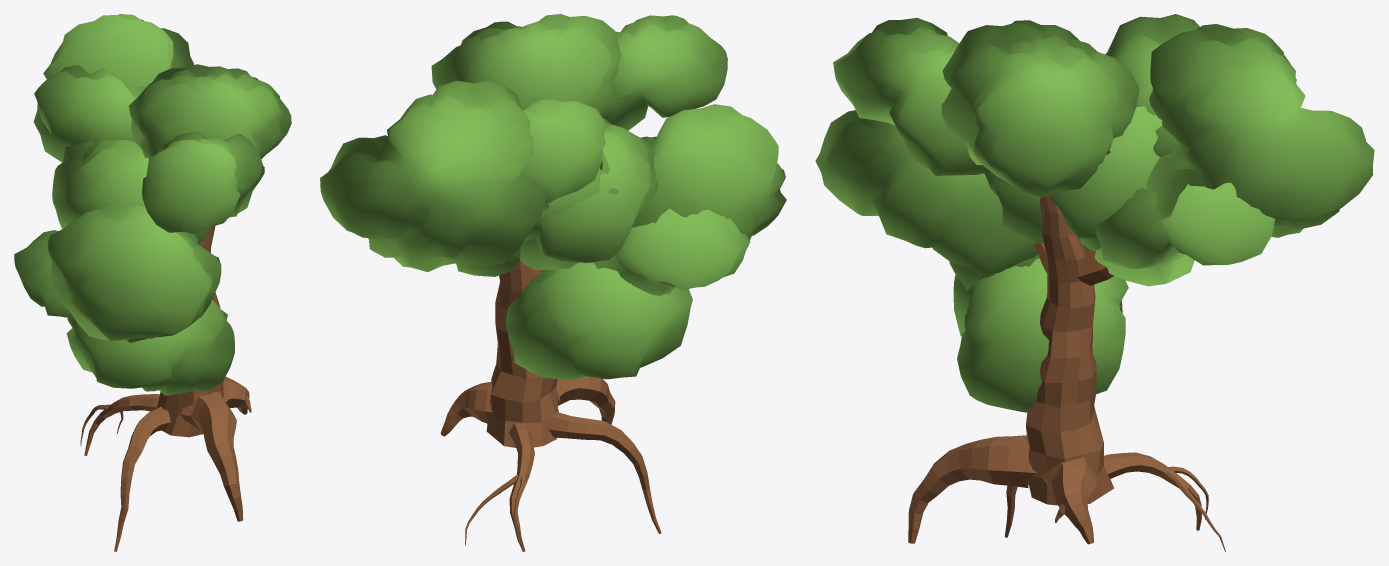
File: tree_a.glb
3 renders of one model, left to right at view 1: azimuth 30°, elevation 25°; view 2: azimuth 150°, elevation 25°; view 3: azimuth 270°, elevation 25°, orthographic. The views are drawn at different scales.
Visible parts, largest first — view 1: BranchLeaves_2, CanopyLeaves, BranchLeaves_7, BranchLeaves_0, TreeWood, BranchLeaves_6, BranchLeaves_8, BranchLeaves_3, BranchLeaves_1, BranchLeaves_5; view 2: BranchLeaves_6, BranchLeaves_0, TreeWood, BranchLeaves_2, CanopyLeaves, BranchLeaves_7, BranchLeaves_3, BranchLeaves_1, BranchLeaves_8, BranchLeaves_5, BranchLeaves_4; view 3: BranchLeaves_6, CanopyLeaves, TreeWood, BranchLeaves_2, BranchLeaves_0, BranchLeaves_7, BranchLeaves_4, BranchLeaves_5, BranchLeaves_8, BranchLeaves_3, Branch.004.
Boxes of the visible parts, <box> form: BranchLeaves_2: <box>47,203,221,340</box>; CanopyLeaves: <box>128,64,291,159</box>; BranchLeaves_7: <box>142,131,264,233</box>; BranchLeaves_0: <box>66,298,234,395</box>; TreeWood: <box>80,226,251,551</box>; BranchLeaves_6: <box>33,14,193,162</box>; BranchLeaves_8: <box>34,65,145,159</box>; BranchLeaves_3: <box>52,139,209,242</box>; BranchLeaves_1: <box>14,230,173,342</box>; BranchLeaves_5: <box>63,140,139,178</box>; BranchLeaves_6: <box>320,80,545,271</box>; BranchLeaves_0: <box>505,262,692,380</box>; TreeWood: <box>440,260,661,551</box>; BranchLeaves_2: <box>628,104,786,239</box>; CanopyLeaves: <box>431,14,631,117</box>; BranchLeaves_7: <box>603,15,727,130</box>; BranchLeaves_3: <box>519,118,657,270</box>; BranchLeaves_1: <box>587,208,750,295</box>; BranchLeaves_8: <box>520,98,605,210</box>; BranchLeaves_5: <box>524,152,618,252</box>; BranchLeaves_4: <box>455,248,520,276</box>; BranchLeaves_6: <box>1146,24,1374,237</box>; CanopyLeaves: <box>941,20,1139,197</box>; TreeWood: <box>908,195,1225,551</box>; BranchLeaves_2: <box>815,110,1037,276</box>; BranchLeaves_0: <box>953,258,1128,412</box>; BranchLeaves_7: <box>833,18,990,175</box>; BranchLeaves_4: <box>1094,182,1274,286</box>; BranchLeaves_5: <box>1049,106,1162,251</box>; BranchLeaves_8: <box>1105,14,1199,157</box>; BranchLeaves_3: <box>984,172,1091,250</box>; Branch.004: <box>1078,250,1113,285</box>.
Size of the model in its own units: 7.33 by 11.56 by 10.52.
